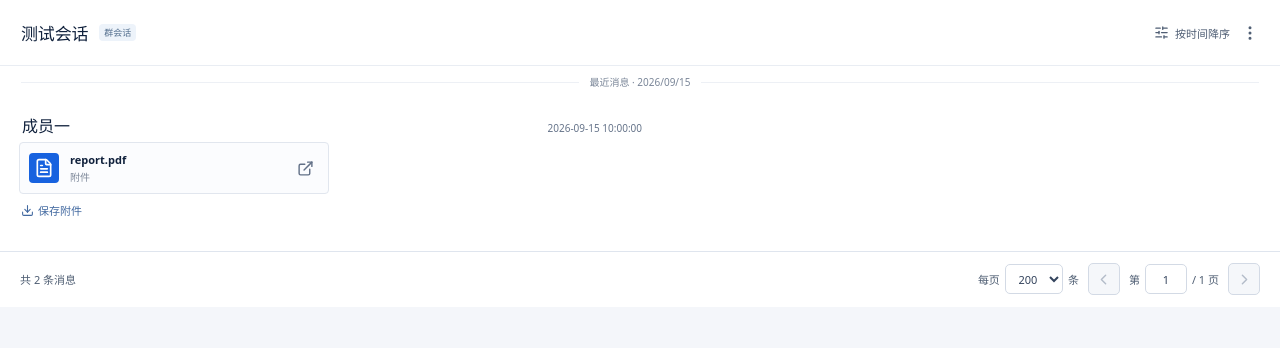
Test: message timeline › shows the backend open error so the user can save the file instead
The width and height of the screenshot is (1280, 348).
Click the button with aria-label "打开附件 report.pdf": {"x": 98, "y": 160} [19,142,329,194]
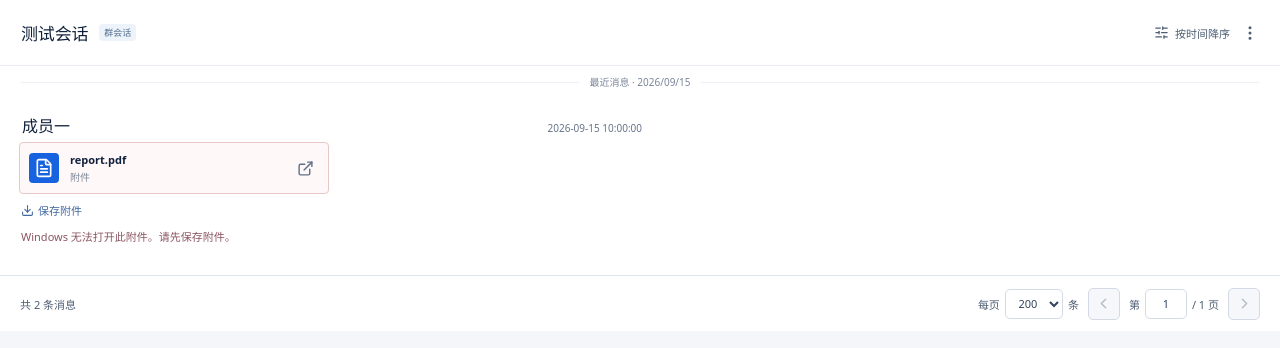
Check: the button with aria-label "保存附件 report.pdf" is enabled, box [21,199,82,221]
Check: the message shows "请先保存附件", box [21,229,236,244]
